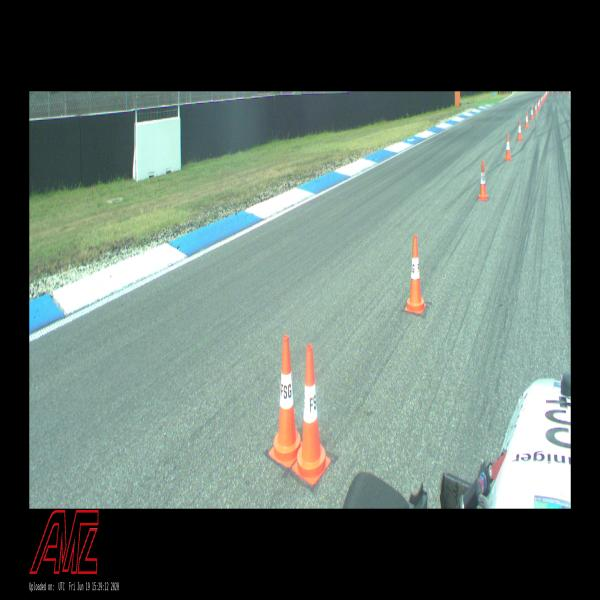orange_cone: (292, 345, 331, 486), (269, 335, 302, 468), (405, 235, 426, 314), (479, 161, 488, 200), (505, 134, 511, 160), (518, 120, 522, 140), (525, 112, 529, 128), (530, 106, 534, 120), (534, 102, 538, 115), (538, 100, 540, 110), (539, 98, 541, 108), (540, 95, 542, 104), (542, 94, 544, 102), (544, 93, 545, 100)
